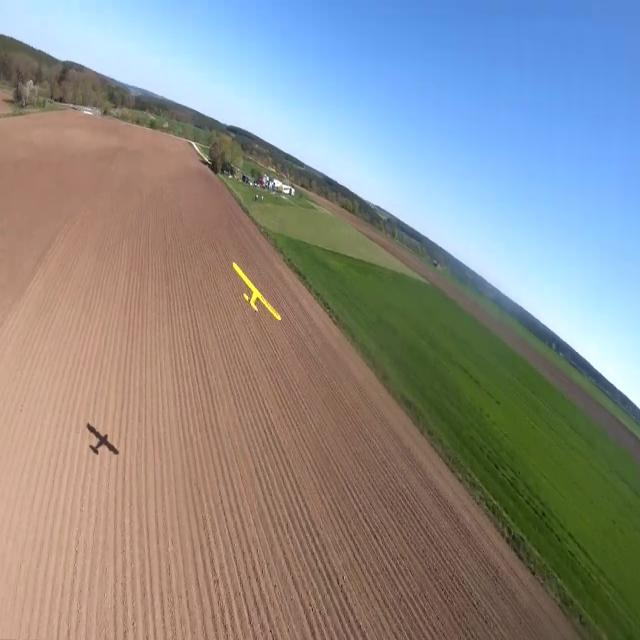iha: (233, 262, 283, 320)
